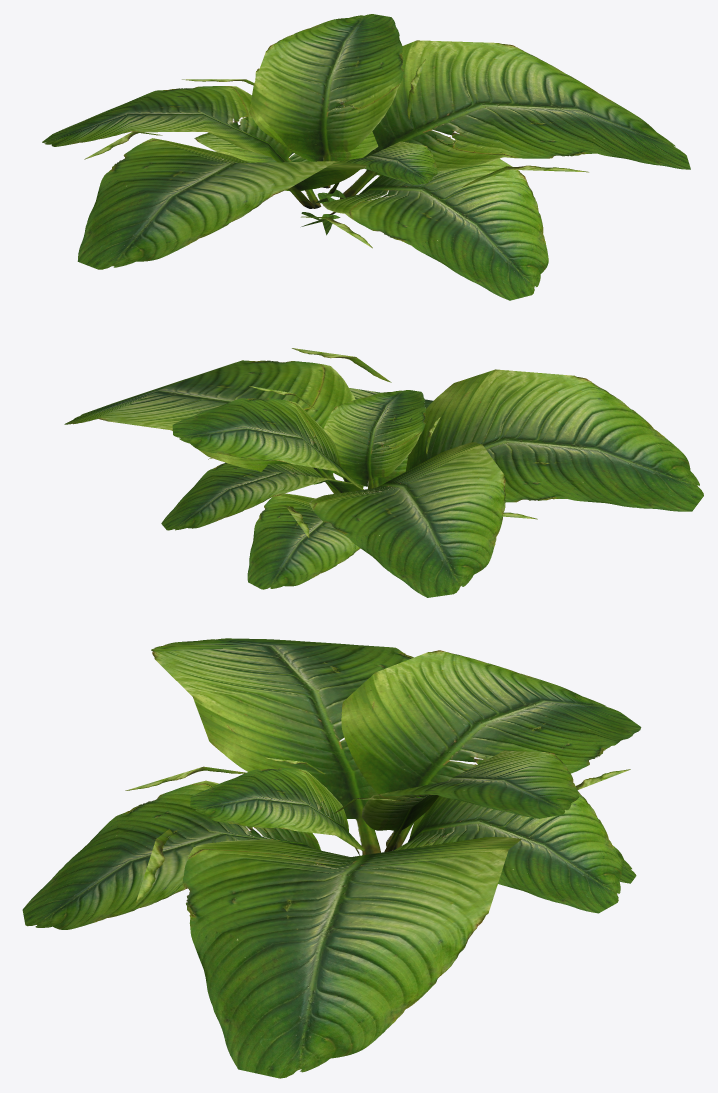
Rendered from Bush_2.FBX.
The picture shows the model from 3 angles, top to bottom: view 1: azimuth 30°, elevation 25°; view 2: azimuth 150°, elevation 25°; view 3: azimuth 270°, elevation 25°; orthographic projection. The views are drawn at different scales.
Visible parts, largest first — view 1: Plane003, Plane004, Plane005, Plane008, Plane006, Plane007, Plane002, Plane009; view 2: Plane004, Plane006, Plane003, Plane008, Plane007, Plane002, Plane009, Plane005; view 3: Plane003, Plane006, Plane004, Plane005, Plane009, Plane008, Plane007.
Part boxes in pixels (x1,y1,x2,y2): Plane003: [320, 40, 690, 235]; Plane004: [77, 132, 366, 269]; Plane005: [301, 140, 548, 300]; Plane008: [249, 14, 425, 197]; Plane006: [42, 79, 331, 203]; Plane007: [315, 141, 437, 203]; Plane002: [194, 125, 340, 219]; Plane009: [252, 68, 378, 203]; Plane004: [405, 369, 703, 519]; Plane006: [278, 442, 505, 597]; Plane003: [64, 348, 391, 493]; Plane008: [172, 386, 363, 490]; Plane007: [318, 390, 440, 488]; Plane002: [247, 493, 360, 589]; Plane009: [161, 458, 363, 530]; Plane005: [334, 388, 433, 487]; Plane003: [136, 829, 521, 1078]; Plane006: [341, 650, 641, 850]; Plane004: [151, 638, 413, 855]; Plane005: [22, 766, 345, 929]; Plane009: [393, 791, 622, 913]; Plane008: [334, 750, 579, 851]; Plane007: [190, 757, 364, 855].
Bounding box in the file's own units: 1.58 × 1.19 × 0.3439.
